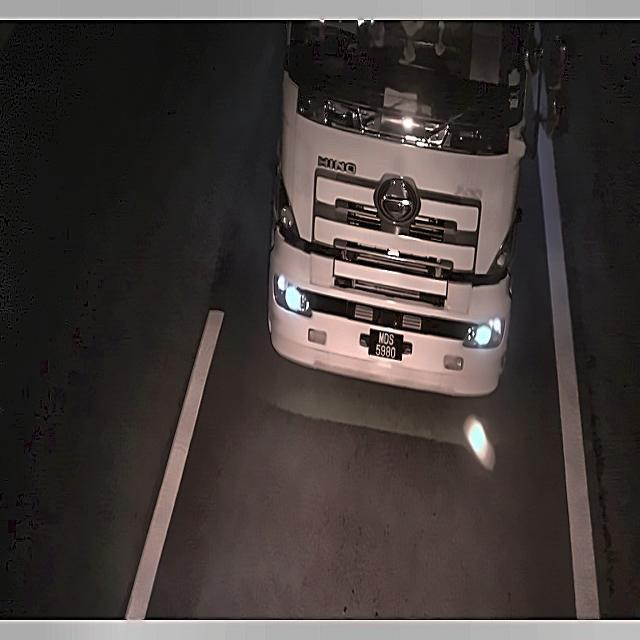car: (362, 323, 406, 371)
